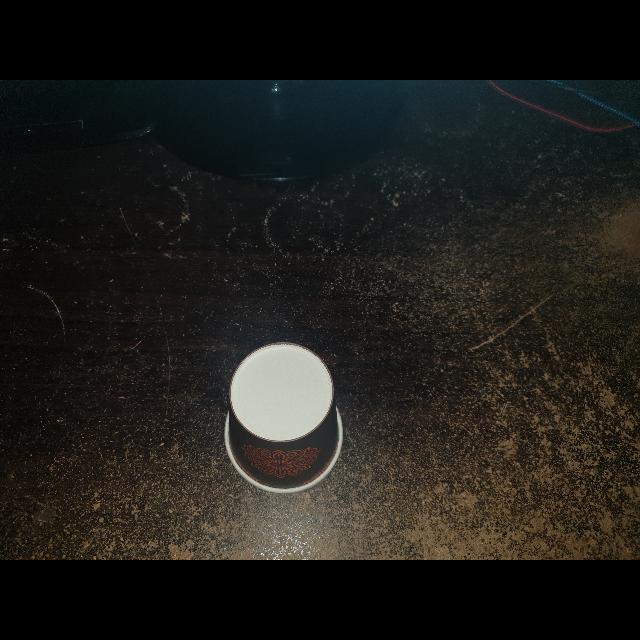trash: (221, 334, 349, 496)
